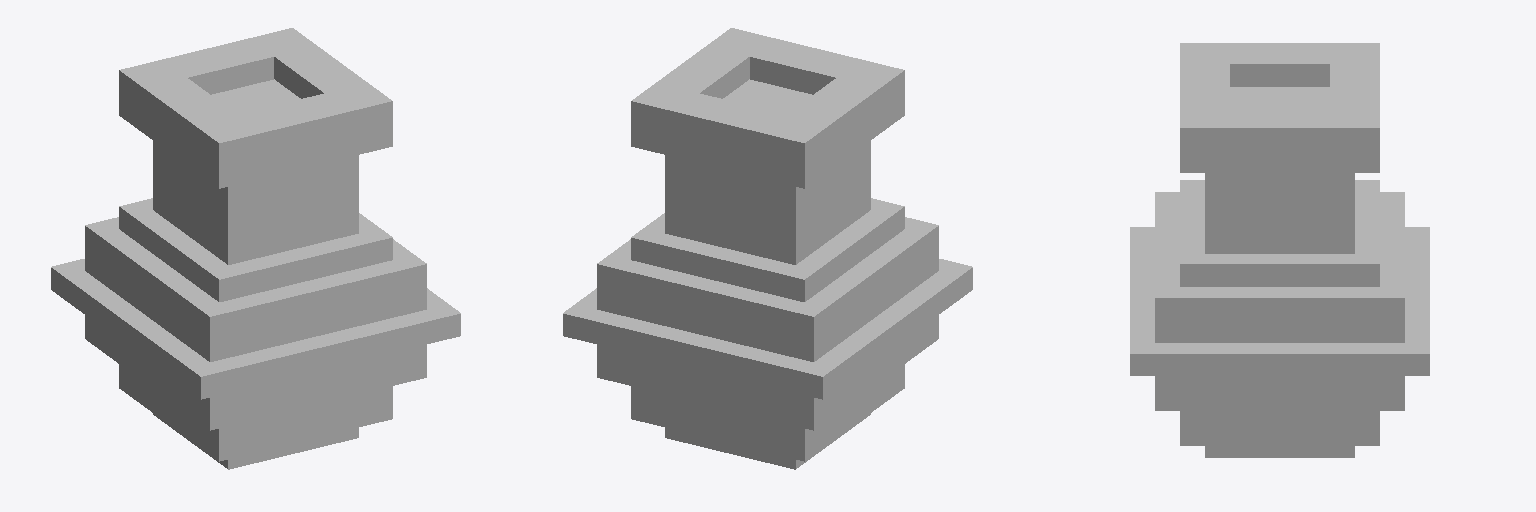
Rendered from dzban 2.obj.
3 renders of one model, left to right at view 1: azimuth 30°, elevation 25°; view 2: azimuth 150°, elevation 25°; view 3: azimuth 270°, elevation 25°, orthographic.
Visible parts, largest first — view 1: object 1; view 2: object 1; view 3: object 1.
Boxes of the visible parts, box(x1,y1,x2,y2) form: object 1: box(51, 28, 460, 469); object 1: box(563, 28, 972, 469); object 1: box(1130, 43, 1429, 457).
Bounding box in the file's own units: 1.2 × 1.5 × 1.2.